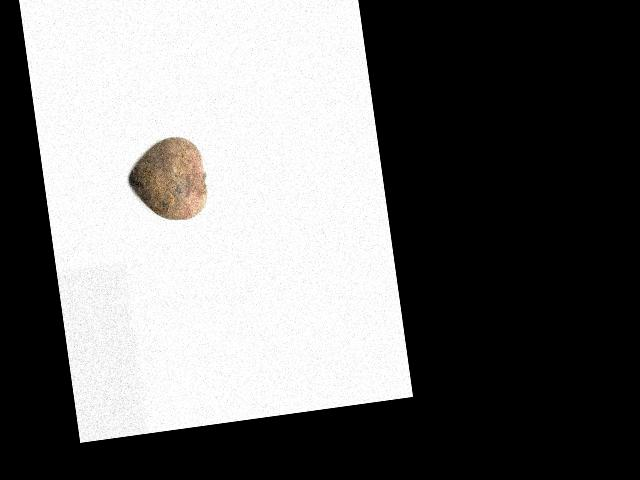beet: (124, 133, 211, 227)
